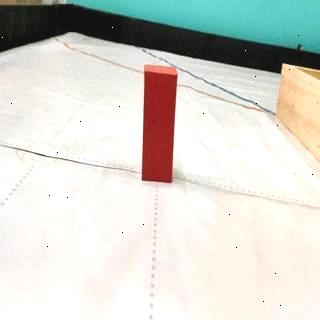redbox: (143, 63, 178, 184)
